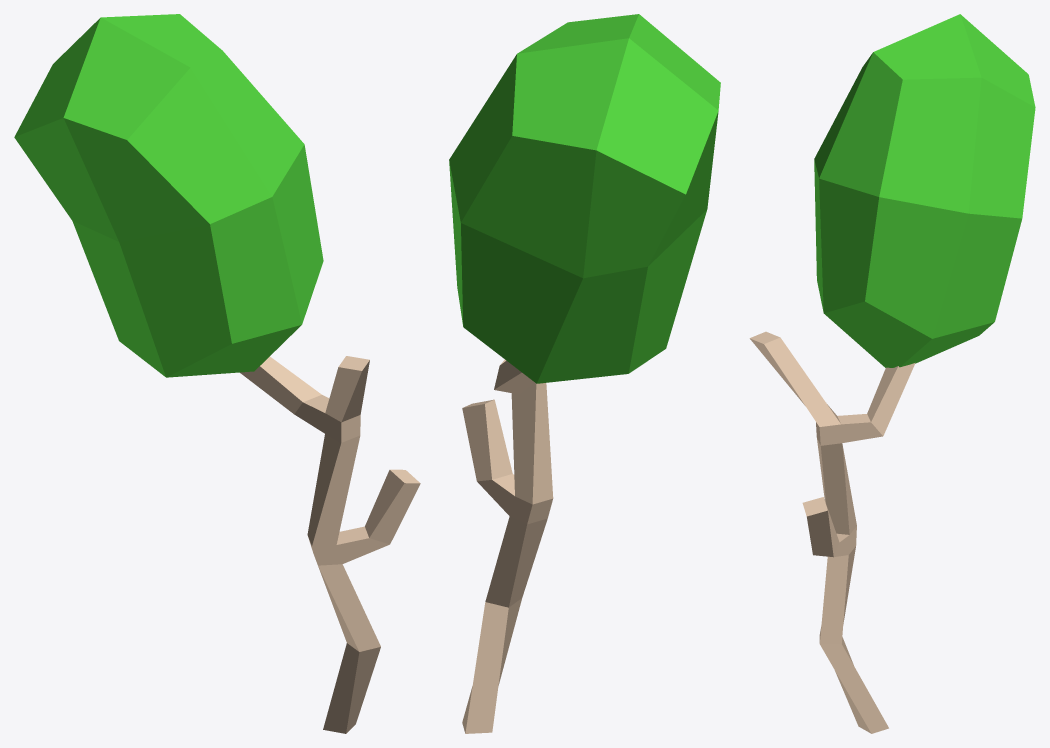
Rendered from tree2.fbx.
3 views of the same model, side by side, from view 1: azimuth 30°, elevation 25°; view 2: azimuth 150°, elevation 25°; view 3: azimuth 270°, elevation 25° (orthographic). The views are drawn at different scales.
Visible parts, largest first — view 1: Cube.002, tree; view 2: Cube.002, tree; view 3: Cube.002, tree.
Boxes of the visible parts, <box> form: Cube.002: <box>14,14,323,377</box>; tree: <box>240,356,420,733</box>; Cube.002: <box>449,14,720,383</box>; tree: <box>462,359,553,733</box>; Cube.002: <box>814,14,1035,367</box>; tree: <box>749,331,915,733</box>.
Size of the model in its own units: 278 by 633 by 260.
